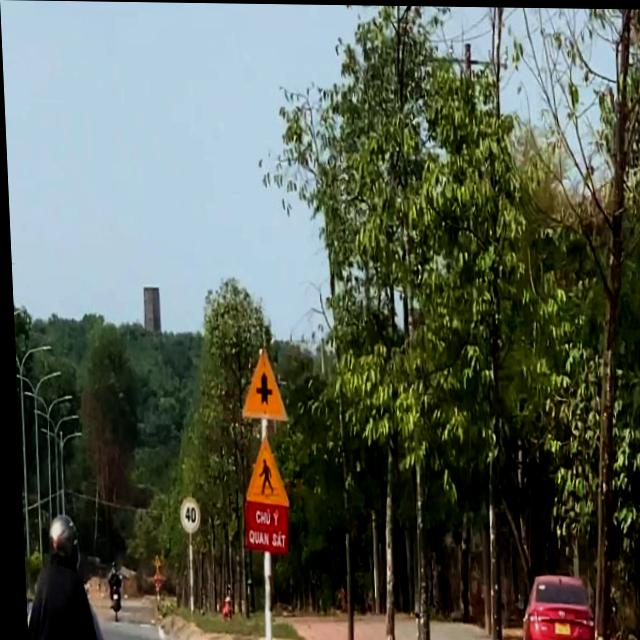Giao nhau voi duong khong uu tien: (232, 340, 287, 425)
Nguoi di bo cat ngang: (236, 429, 287, 510)
Toc do toi da cho phep: (174, 494, 198, 536)
